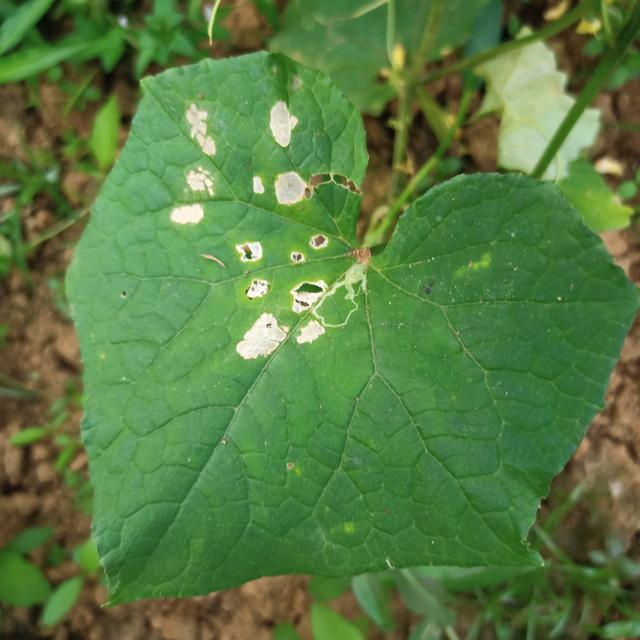disease_cucumber: (233, 100, 326, 357), (168, 102, 216, 228)
